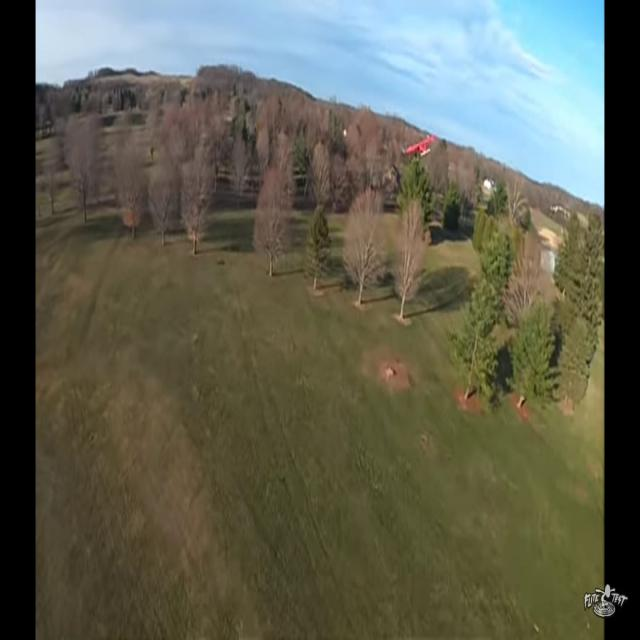iha: (405, 134, 435, 159)
